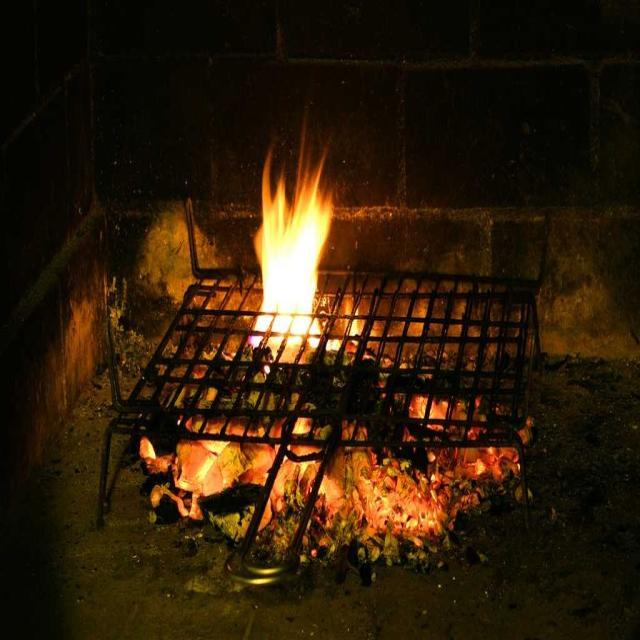Fire: (255, 207, 325, 313)
